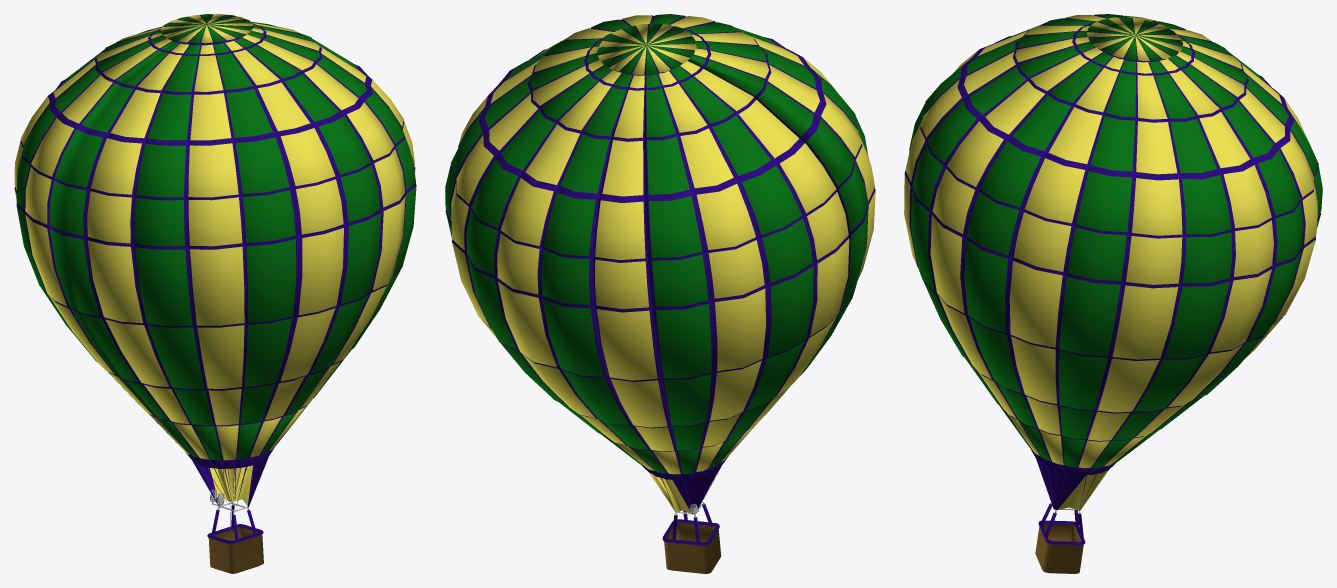
Rendered from balloon.gltf.
The picture shows the model from 3 angles, left to right: view 1: azimuth 30°, elevation 25°; view 2: azimuth 150°, elevation 25°; view 3: azimuth 270°, elevation 25°; orthographic projection. The views are drawn at different scales.
Visible parts, largest first — view 1: balao, cesto; view 2: balao, cesto; view 3: balao, cesto.
Boxes of the visible parts, x1,y1,x2,y2 form: balao: [14, 14, 416, 510]; cesto: [207, 502, 263, 573]; balao: [445, 14, 875, 513]; cesto: [662, 501, 721, 573]; balao: [904, 14, 1322, 510]; cesto: [1035, 503, 1085, 573].
Size of the model in its own units: 3.34 by 4.73 by 3.34.
